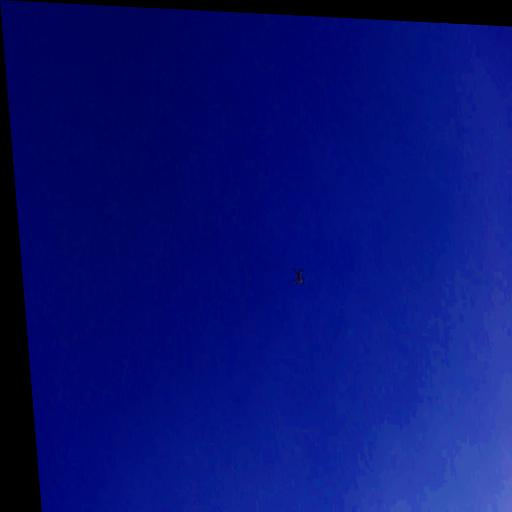drones: (290, 265, 306, 288)
